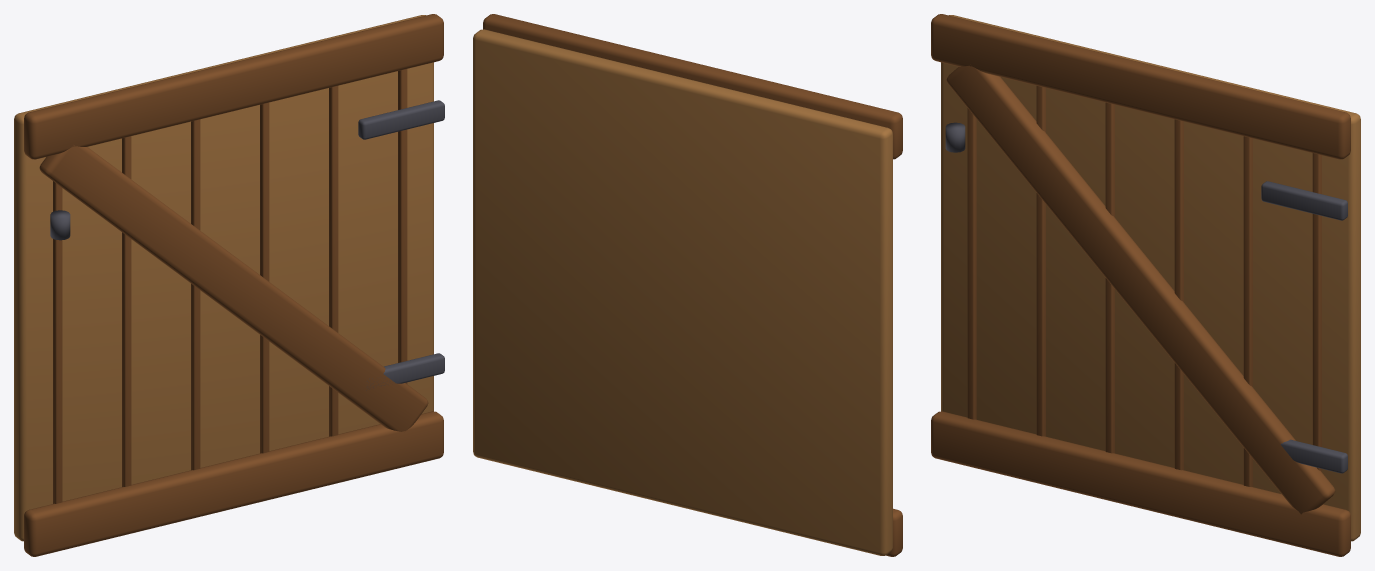
File: stall_gate.glb
3 renders of one model, left to right at view 1: azimuth 30°, elevation 25°; view 2: azimuth 150°, elevation 25°; view 3: azimuth 330°, elevation 25°, orthographic.
Visible parts, largest first — view 1: stall_gate; view 2: stall_gate; view 3: stall_gate.
Part boxes in pixels (x1,y1,x2,y2): stall_gate: (14, 14, 444, 556); stall_gate: (473, 14, 902, 556); stall_gate: (931, 14, 1360, 556).
Size of the model in its own units: 1.2 by 1.22 by 0.13.
